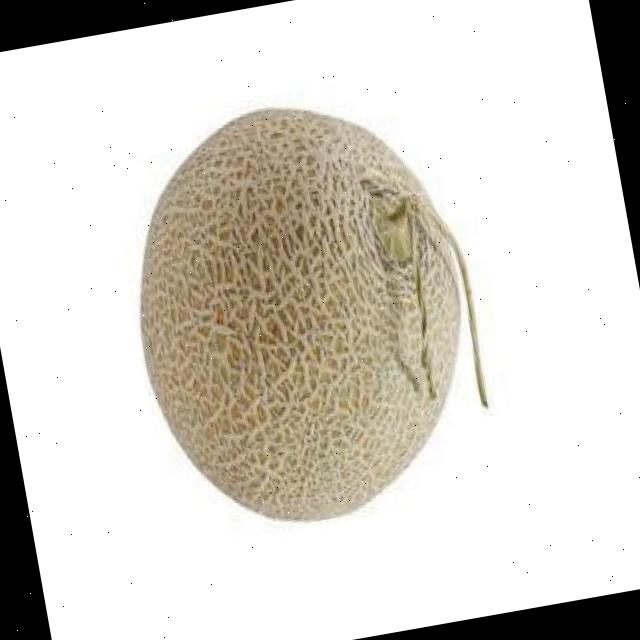Hami Melon: (106, 79, 496, 545)
